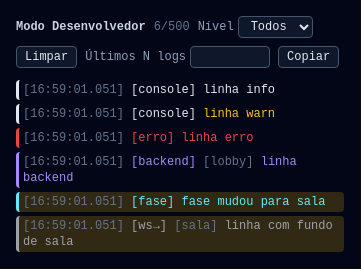
Test: painel — Limpar › limpa o buffer e o painel esvazia
Step 1. Click the button "Limpar" → click(47, 57), box x1=16 y1=46 x2=77 y2=68
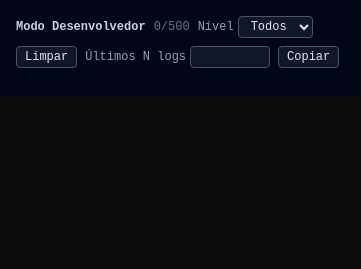
Now the list item with test id "linha-de-depuracao" is gone
